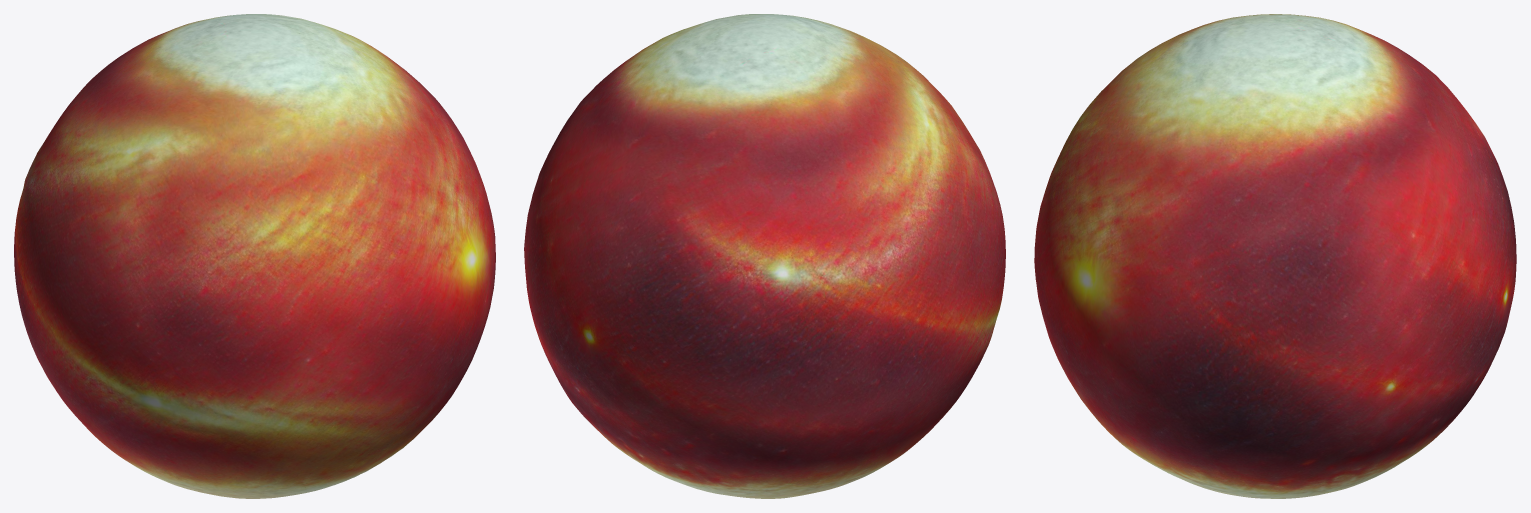
Rendered from planet.glb.
3 renders of one model, left to right at view 1: azimuth 30°, elevation 25°; view 2: azimuth 150°, elevation 25°; view 3: azimuth 270°, elevation 25°, orthographic.
Visible parts, largest first — view 1: mesh; view 2: mesh; view 3: mesh.
Boxes of the visible parts, x1,y1,x2,y2 form: mesh: (14, 14, 495, 498); mesh: (524, 14, 1005, 498); mesh: (1034, 14, 1516, 498).
Bounding box in the file's own units: 0.9874 × 0.9994 × 0.9881.
1 material, 1 textured.
